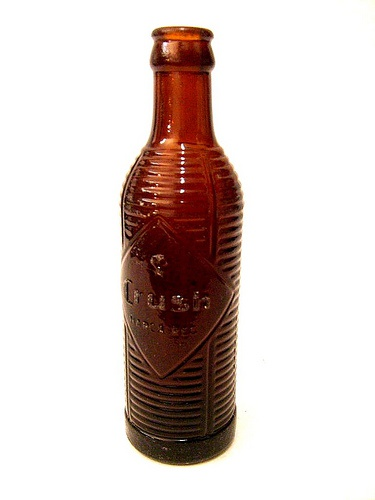emptybottle: (123, 27, 237, 465)
